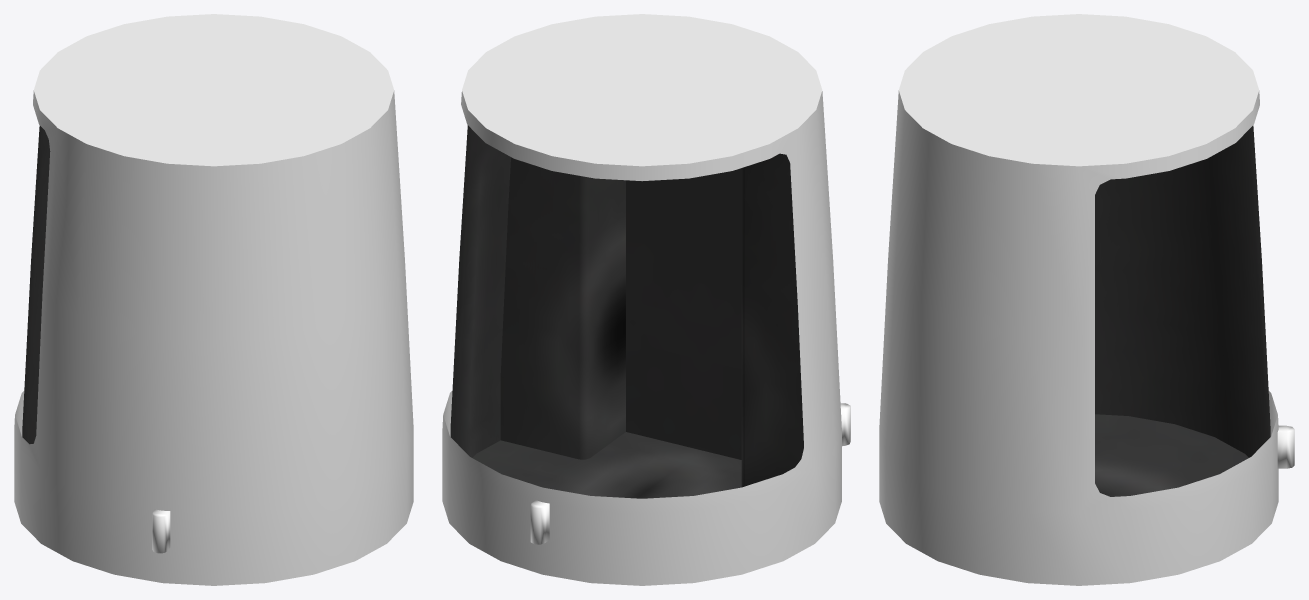
Rendered from blue_steel_crew_s1_1_interior.obj.
3 views of the same model, side by side, from view 1: azimuth 30°, elevation 25°; view 2: azimuth 150°, elevation 25°; view 3: azimuth 270°, elevation 25° (orthographic).
Visible parts, largest first — view 1: mask, mesh1; view 2: mesh1, mask; view 3: mask, mesh1.
Boxes of the visible parts, box(x1,y1,x2,y2) form: mask: box(14, 14, 413, 585); mesh1: box(22, 125, 50, 444); mesh1: box(450, 125, 803, 498); mask: box(442, 14, 850, 585); mask: box(879, 14, 1294, 585); mesh1: box(1095, 125, 1270, 496).
Bounding box in the file's own units: 1.25 × 1.42 × 1.3.
